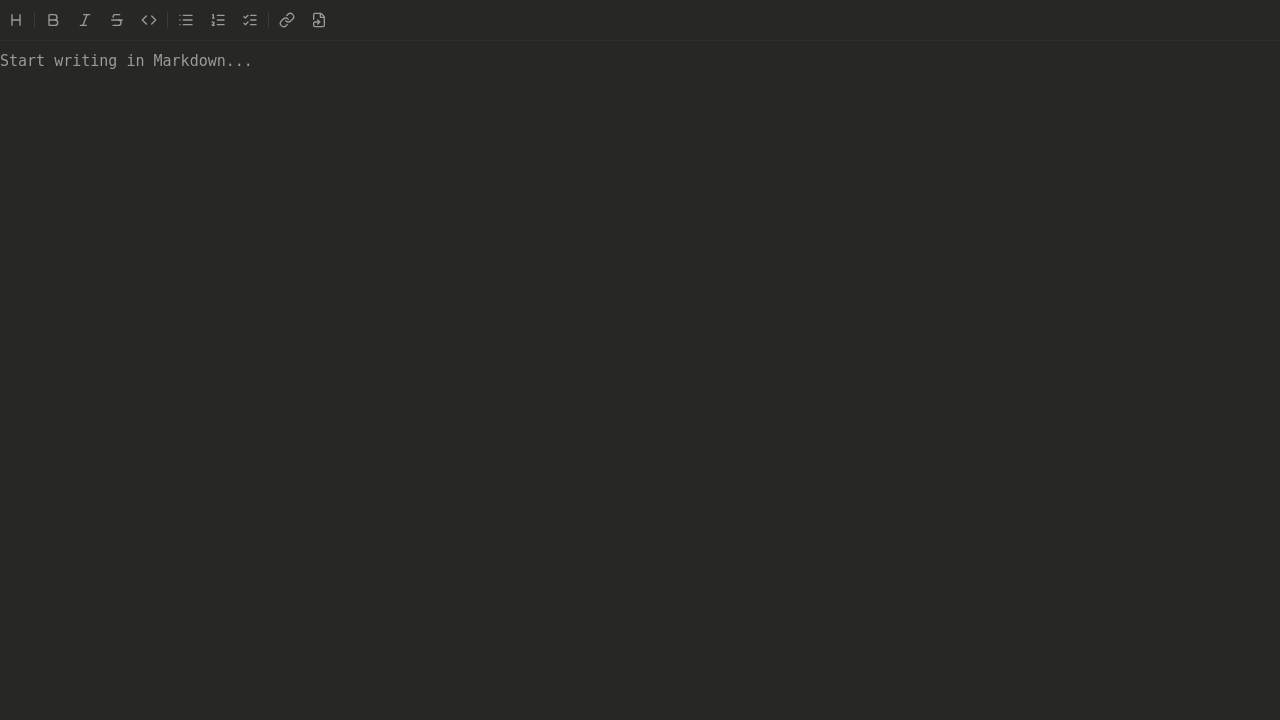
Test: MarkdownEditor formatting › links to a note picked through search, leaving out the note being edited
Click the button named "Link to note" at coordinates (319, 20), box [303,4,335,36]
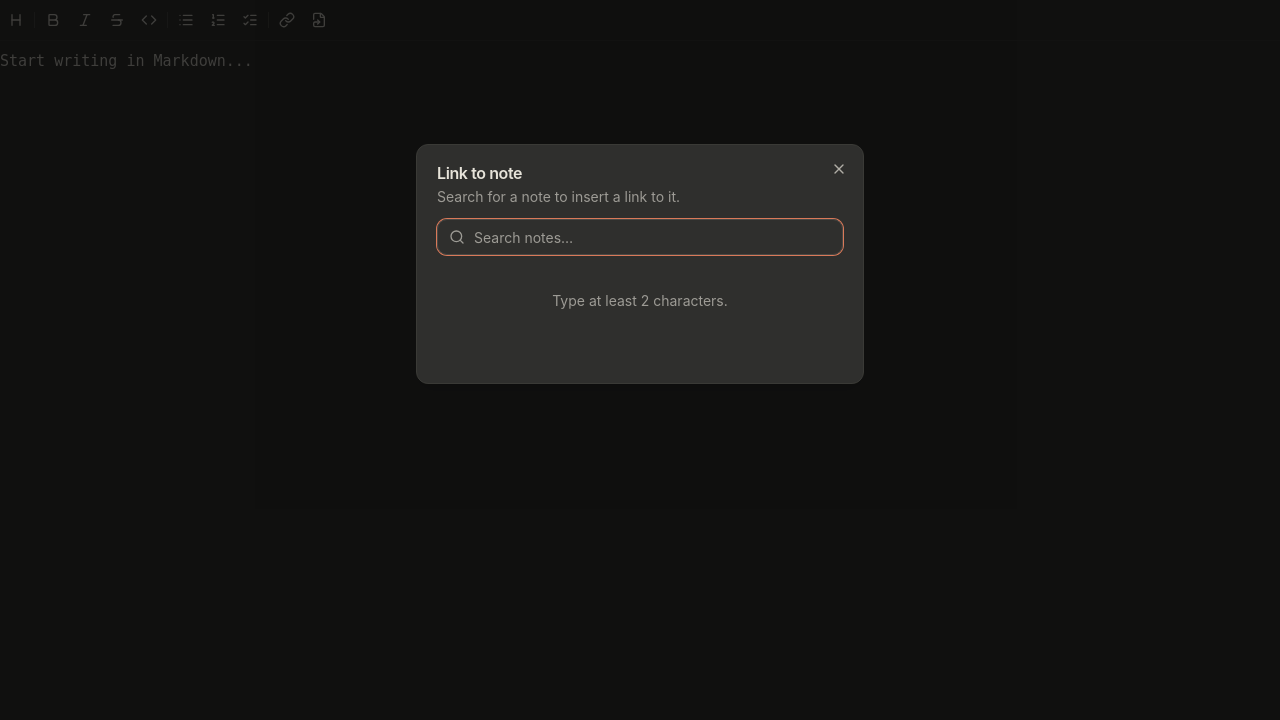
Type "trip" into the dropdown labelled "Search notes" at coordinates (640, 237), box [437,219,843,255]
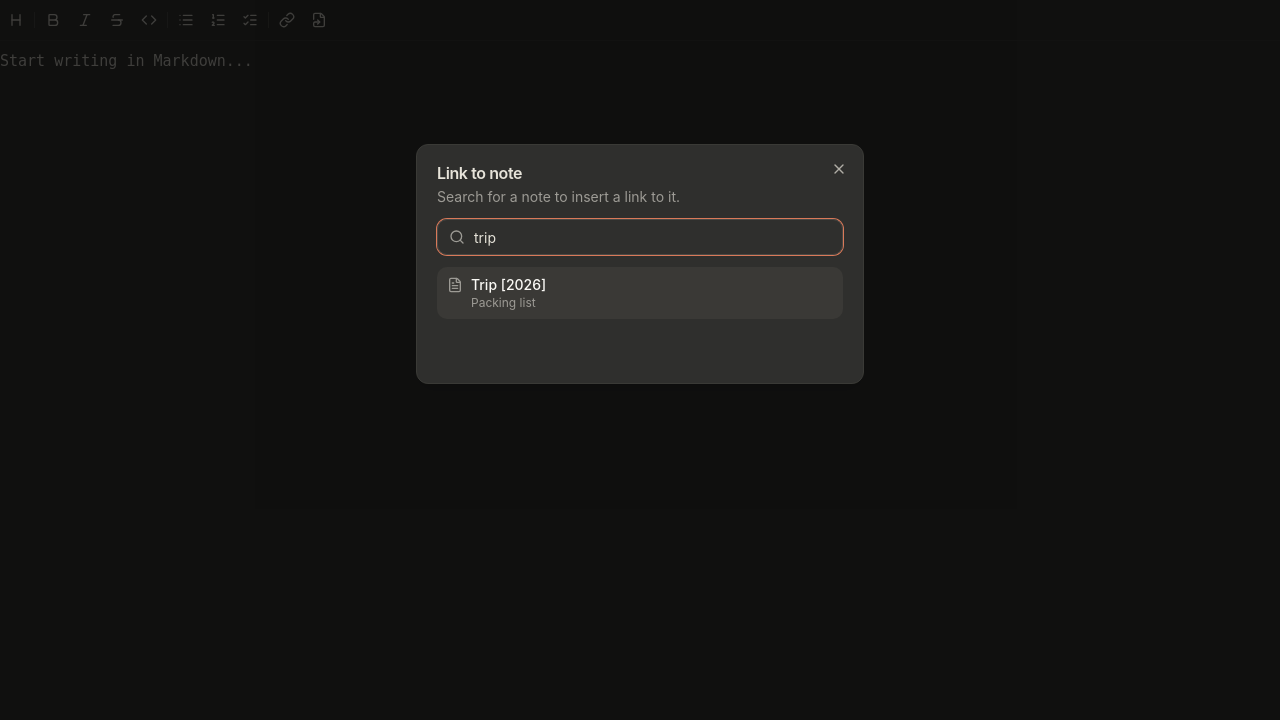
Click the option "Trip [2026] Packing list" at coordinates (509, 284), box [437,267,843,319]
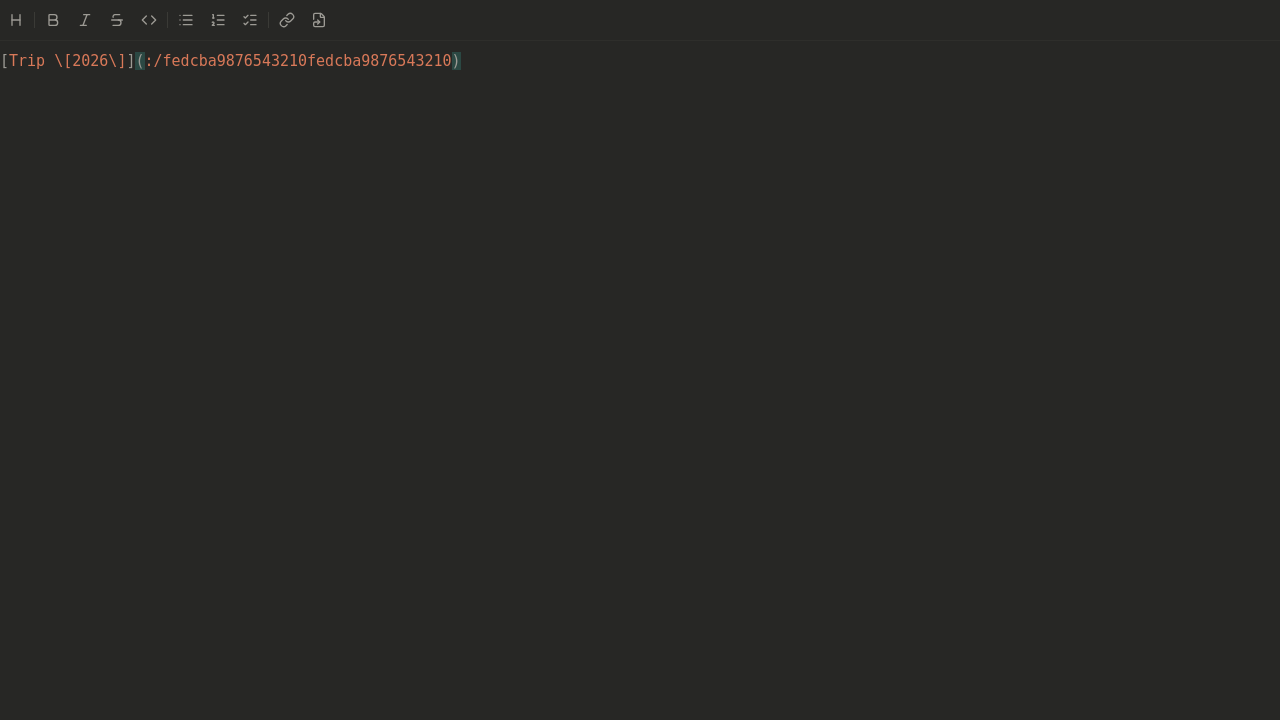
Expected: the dialog is gone
